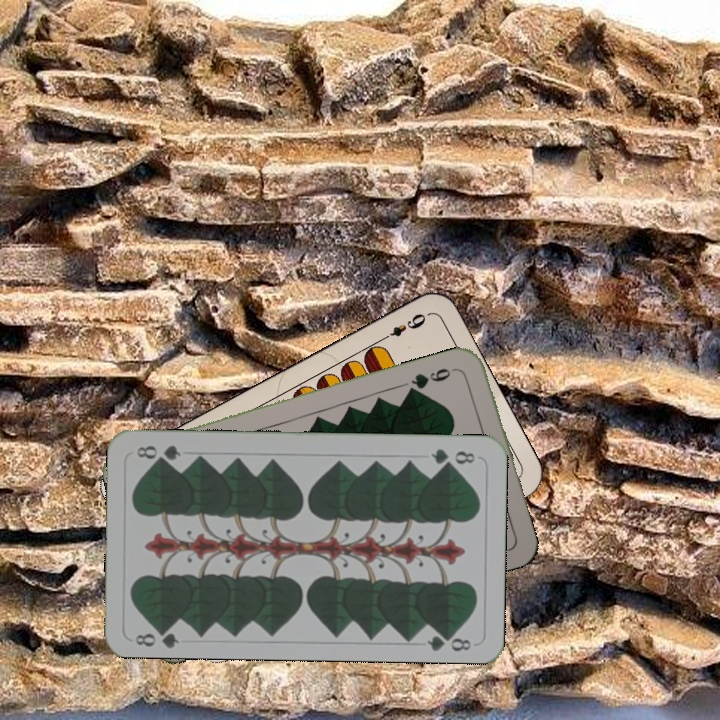E9: (376, 309, 431, 344)
G8: (132, 622, 182, 650), (427, 444, 478, 468)
G9: (405, 363, 461, 394)
